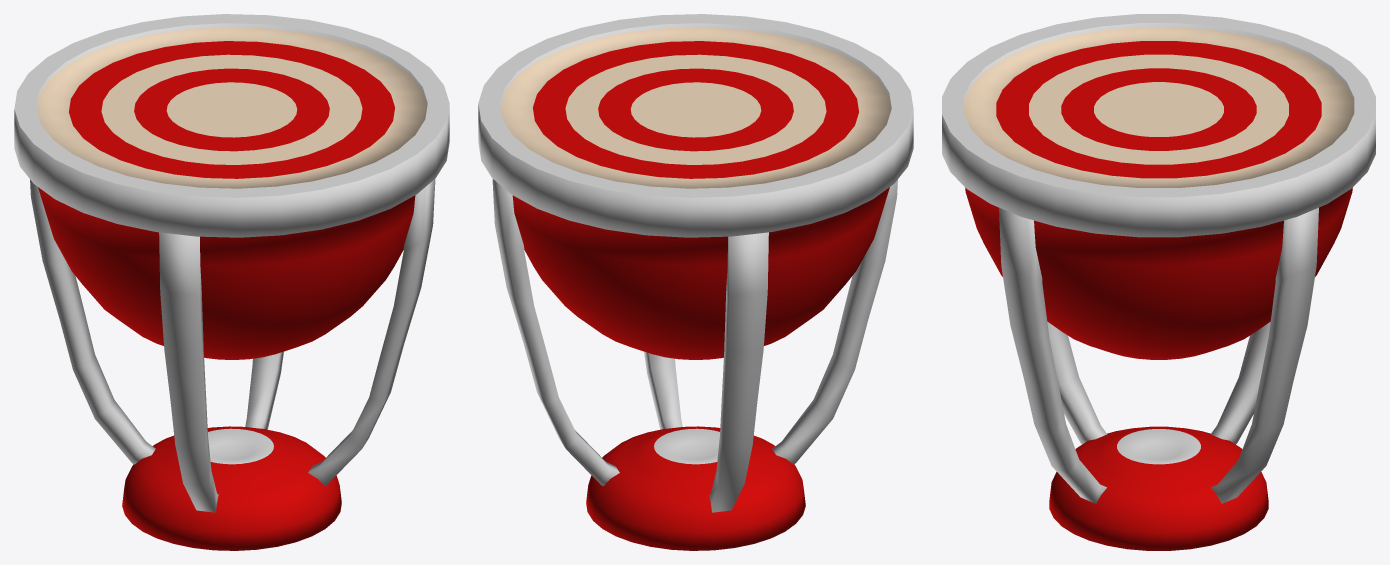
File: timpani.fbx
3 views of the same model, side by side, from view 1: azimuth 30°, elevation 25°; view 2: azimuth 150°, elevation 25°; view 3: azimuth 270°, elevation 25° (orthographic).
Visible parts, largest first — view 1: timpani; view 2: timpani; view 3: timpani.
Boxes of the visible parts, box(x1,y1,x2,y2) form: timpani: box(14, 14, 449, 550); timpani: box(478, 14, 913, 550); timpani: box(942, 14, 1375, 550).
Size of the model in its own units: 197 by 200 by 197.
